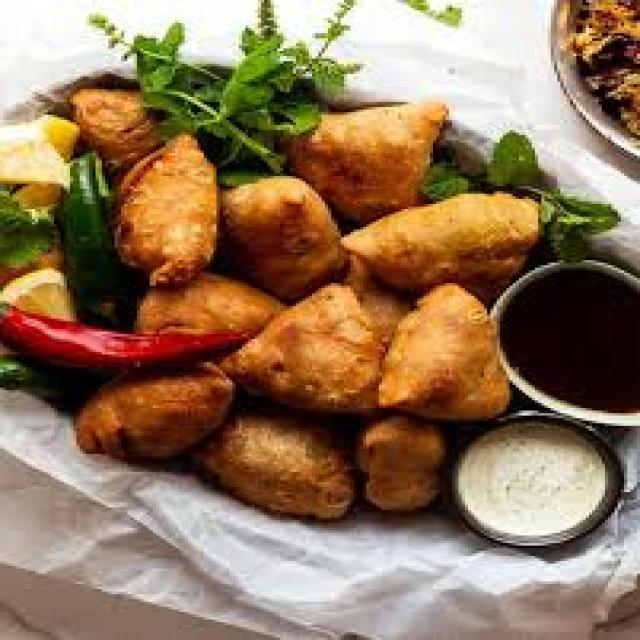SAMOSA: (354, 194, 535, 295), (302, 102, 452, 219), (240, 288, 385, 408), (107, 133, 218, 287), (68, 377, 235, 476), (385, 288, 511, 413), (210, 423, 357, 519), (218, 182, 341, 292)
